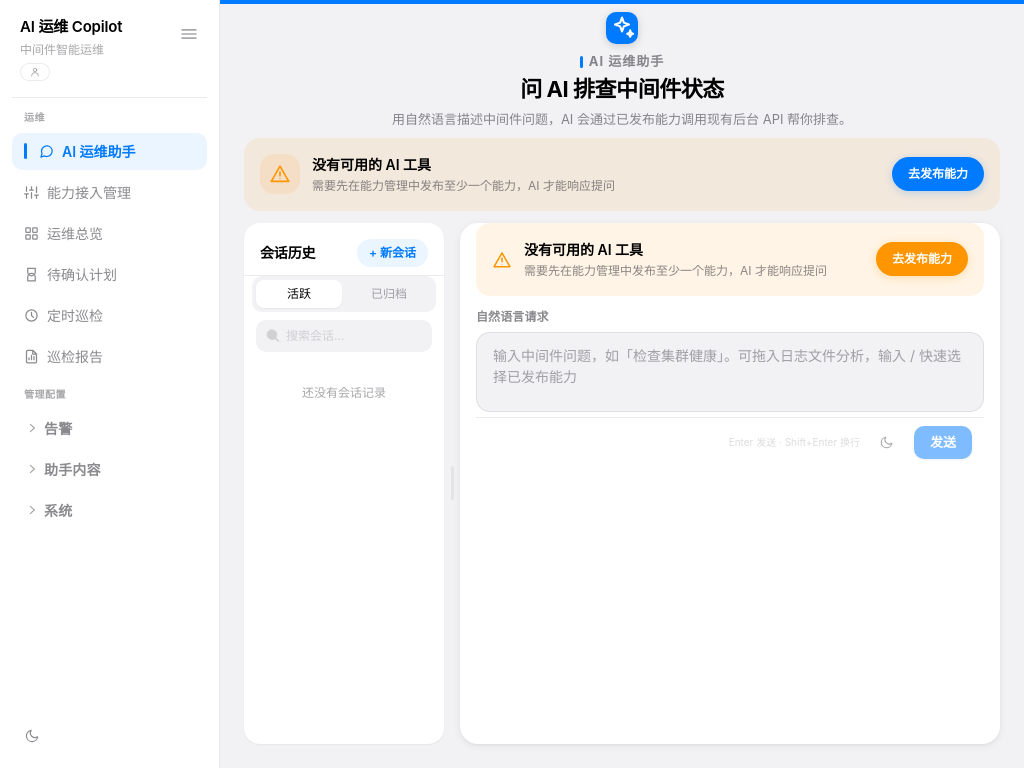
Test: Capability Console › shows stop button while loading and aborts on click
Type "测试" into the text box with test id "assistant-input".
click(730, 372); type("测试")  # box left=476, top=332, right=984, bottom=412
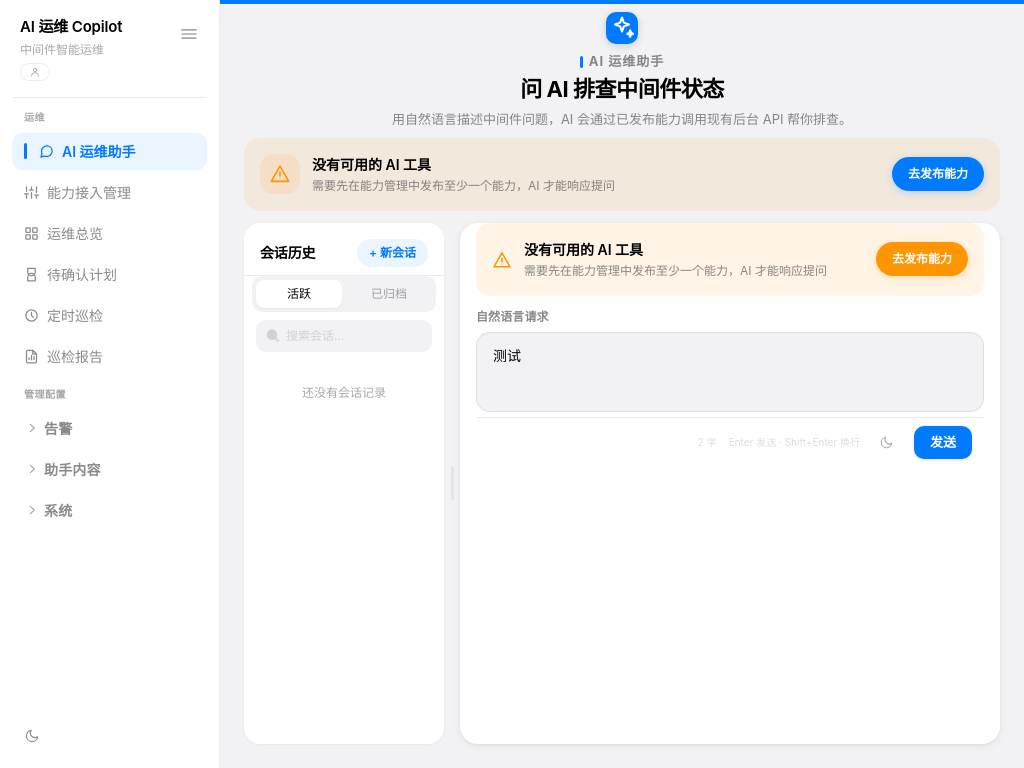
Click the button with test id "assistant-send".
click(943, 442)  # box left=914, top=426, right=972, bottom=459
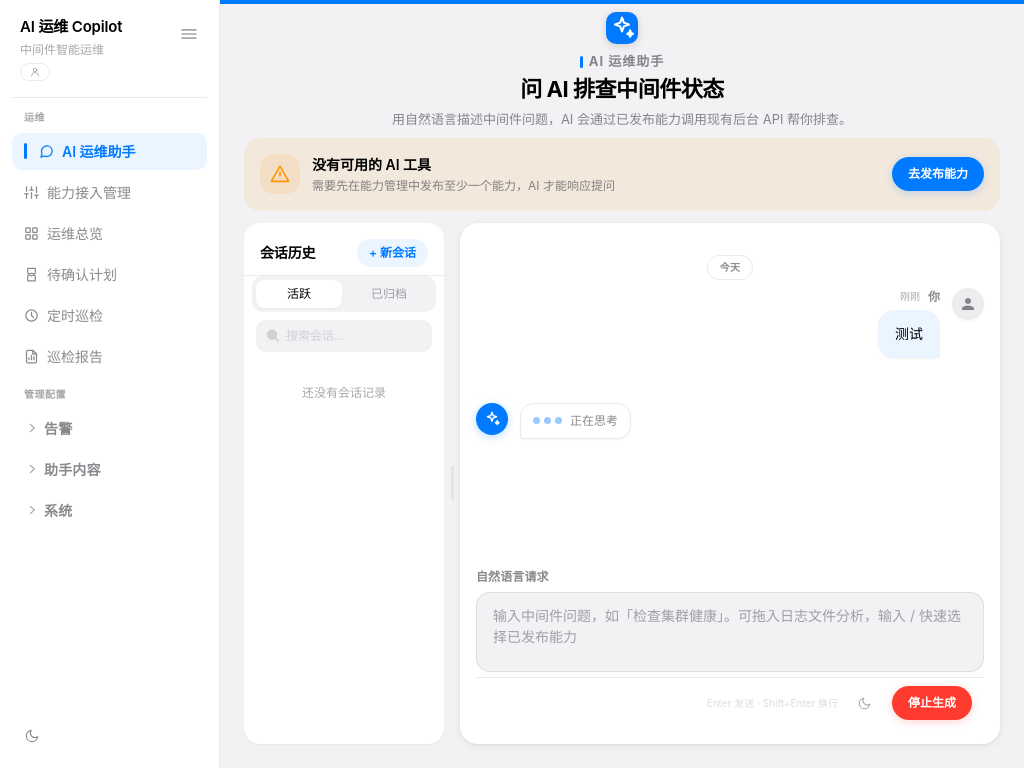
Check: the button with test id "assistant-stop" is shown
Click the button with test id "assistant-stop".
click(932, 703)  # box left=892, top=686, right=972, bottom=720
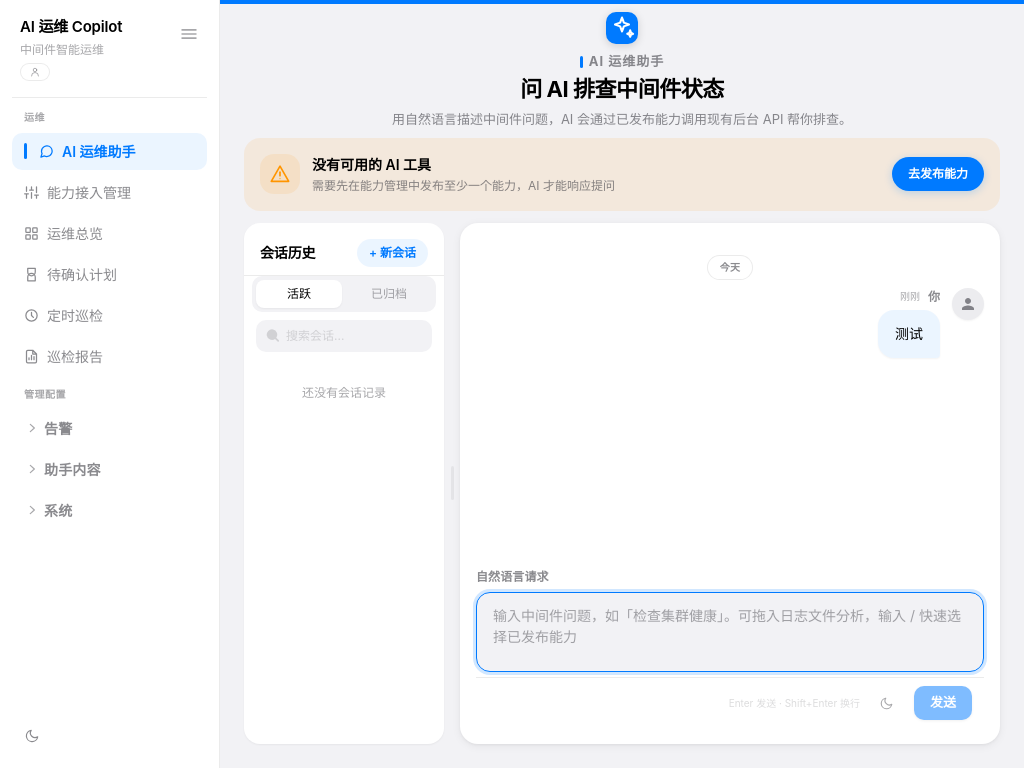
Check: the button with test id "assistant-send" is shown, box left=914, top=686, right=972, bottom=720
